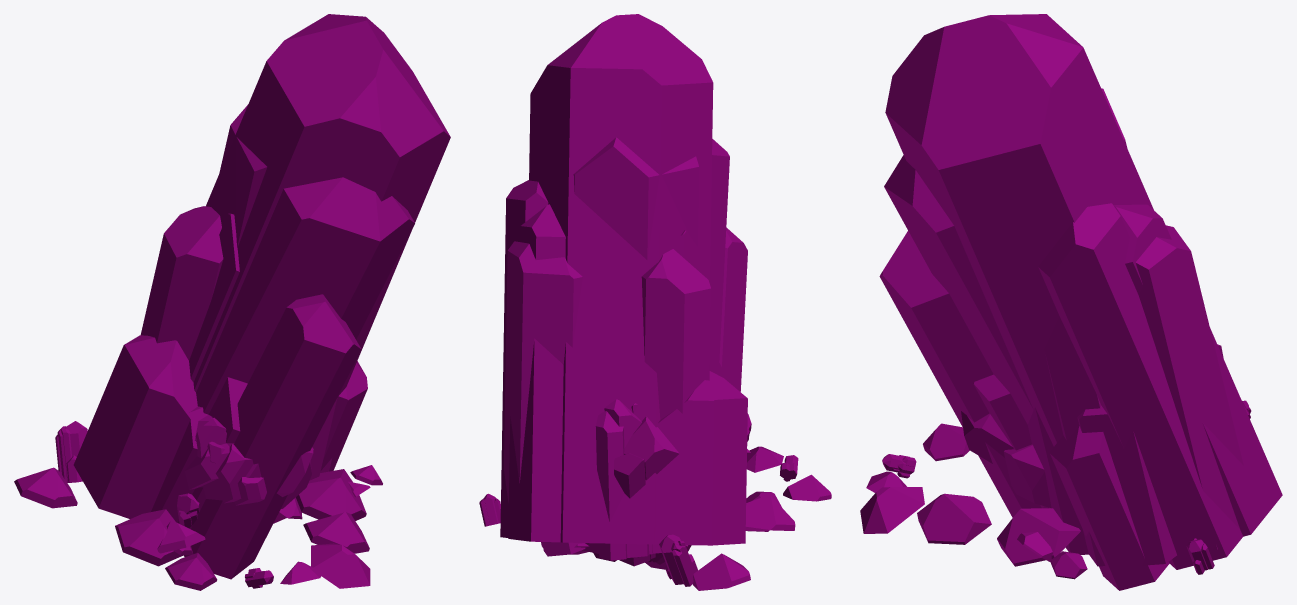
The model's file is Crystal.FBX.
3 renders of one model, left to right at view 1: azimuth 30°, elevation 25°; view 2: azimuth 150°, elevation 25°; view 3: azimuth 270°, elevation 25°, orthographic. The views are drawn at different scales.
Visible parts, largest first — view 1: Cystal; view 2: Cystal; view 3: Cystal.
Boxes of the visible parts, x1,y1,x2,y2 form: Cystal: (14, 14, 450, 590); Cystal: (479, 14, 831, 590); Cystal: (860, 14, 1282, 590).
Size of the model in its own units: 19.28 by 31.22 by 20.54.
